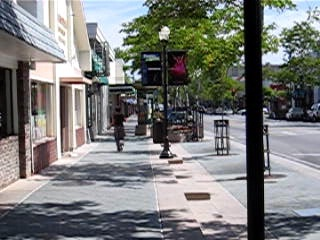person: (110, 104, 125, 151), (109, 104, 124, 151), (111, 104, 126, 151), (110, 103, 125, 150), (110, 105, 125, 152)
target_negative: (171, 61, 307, 208), (110, 136, 274, 203), (30, 123, 245, 166), (25, 201, 208, 221), (164, 81, 288, 83), (182, 209, 291, 211)
